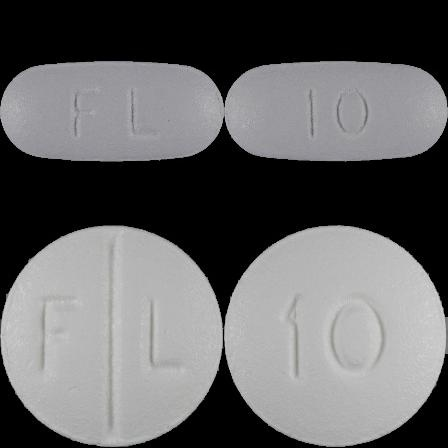55154-4618: (0, 0, 224, 224)
